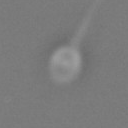normal: (67, 1, 108, 45)
